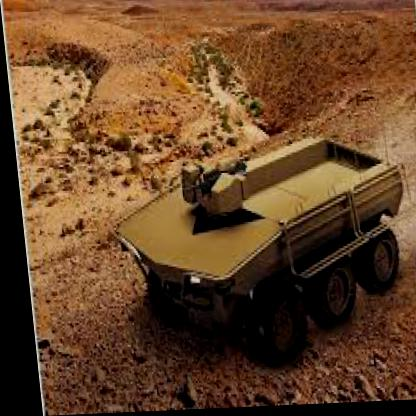UGV: (102, 136, 413, 373)
